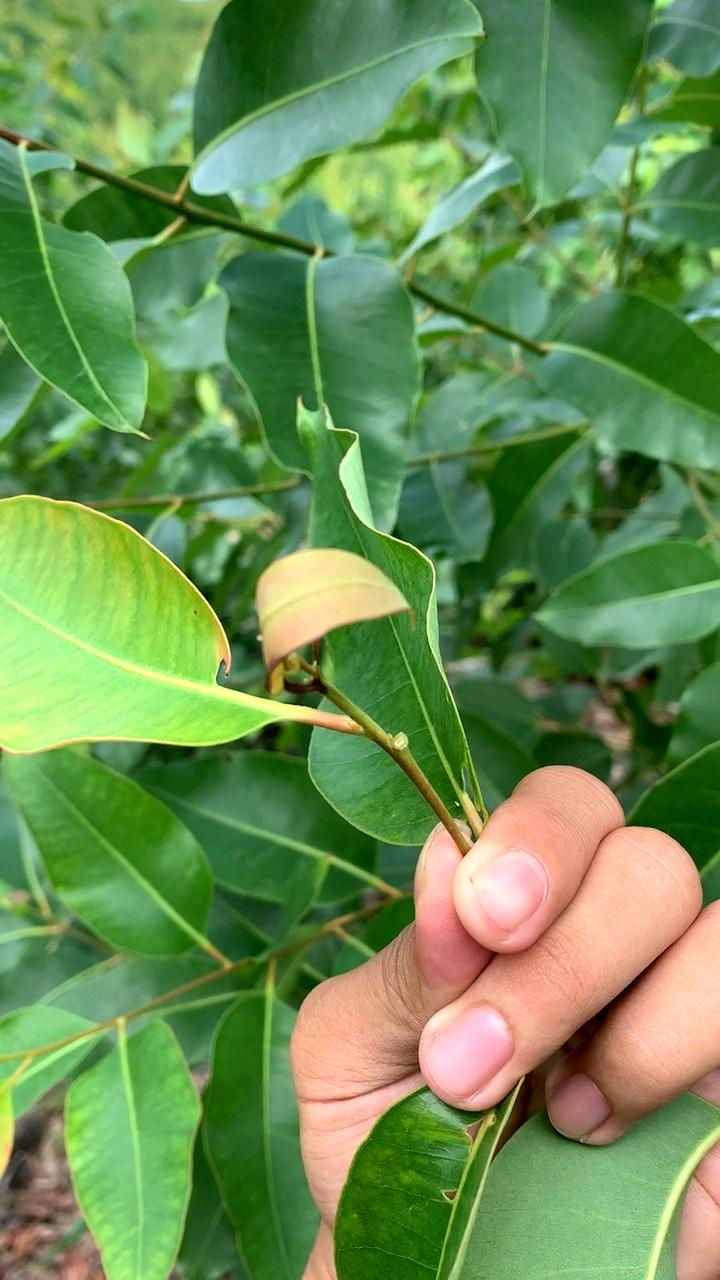Helopeltis-Withered Sprout: (230, 538, 421, 687)
